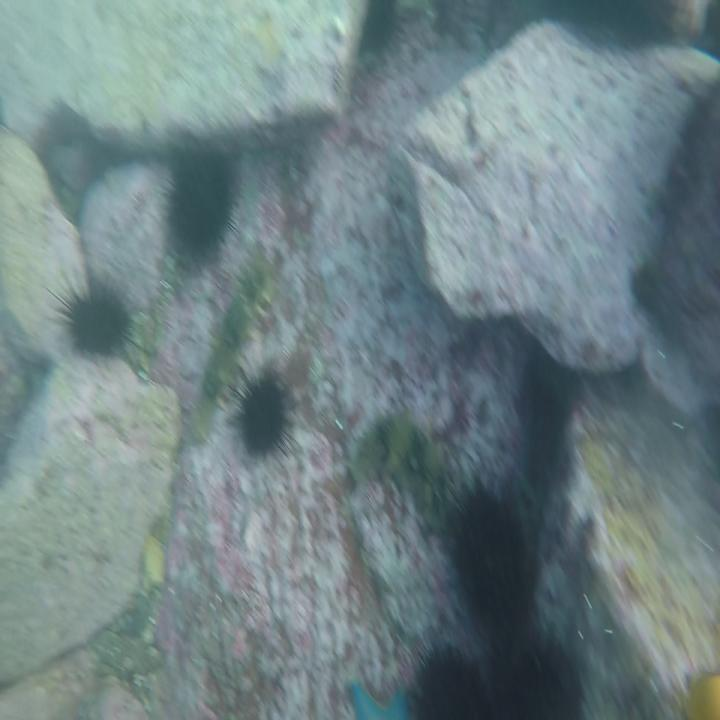echinus: (442, 486, 534, 616), (487, 635, 582, 720), (224, 353, 290, 469), (50, 270, 130, 364), (167, 157, 235, 265), (398, 644, 487, 720)
